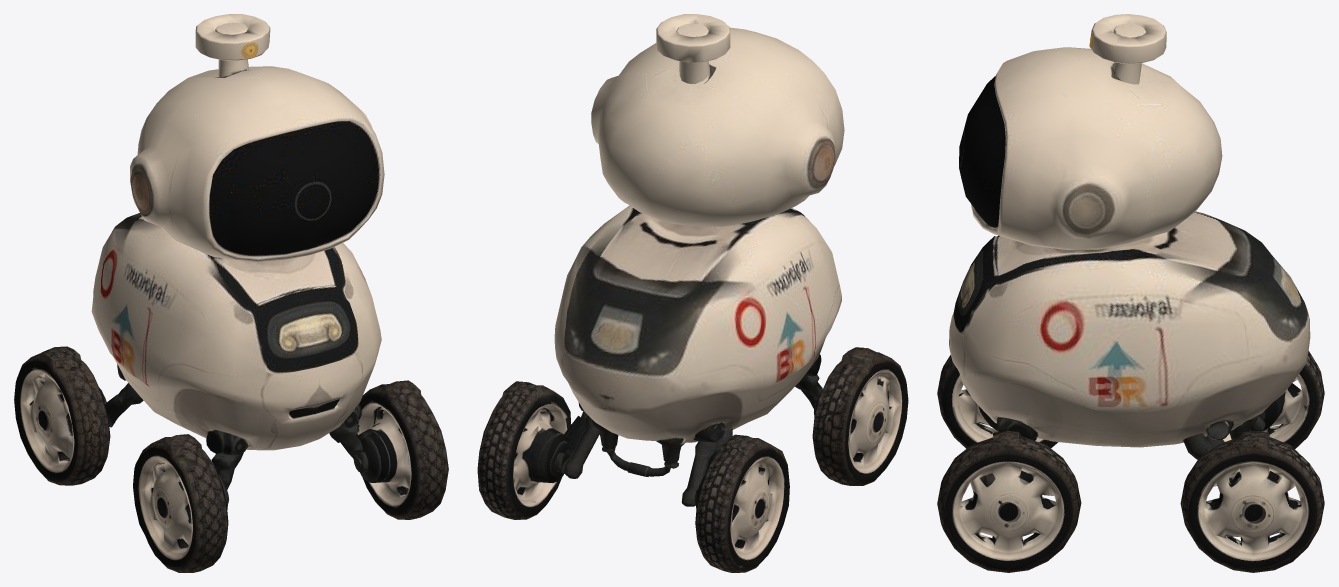
Rendered from enm_patrol_bot.glb.
The picture shows the model from 3 angles, left to right: view 1: azimuth 30°, elevation 25°; view 2: azimuth 150°, elevation 25°; view 3: azimuth 270°, elevation 25°; orthographic projection. The views are drawn at different scales.
Bounding box in the file's own units: 0.5464 × 0.9521 × 0.689.
1 material, 1 textured.
